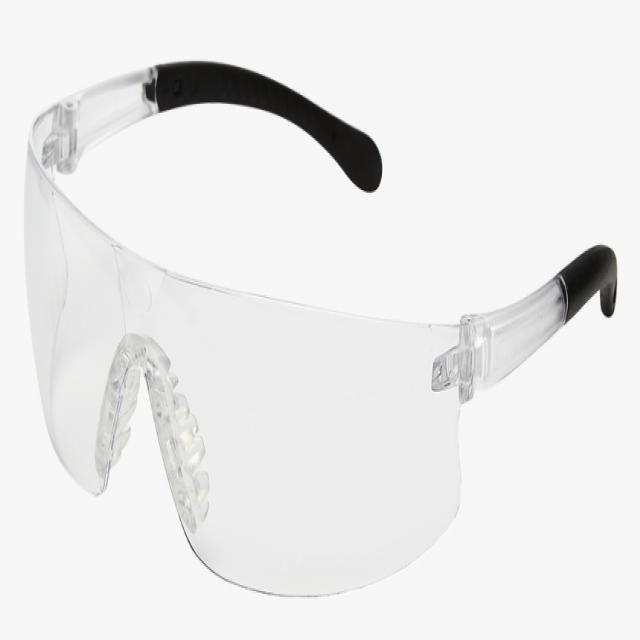Protective Glasses: (3, 6, 639, 640)
